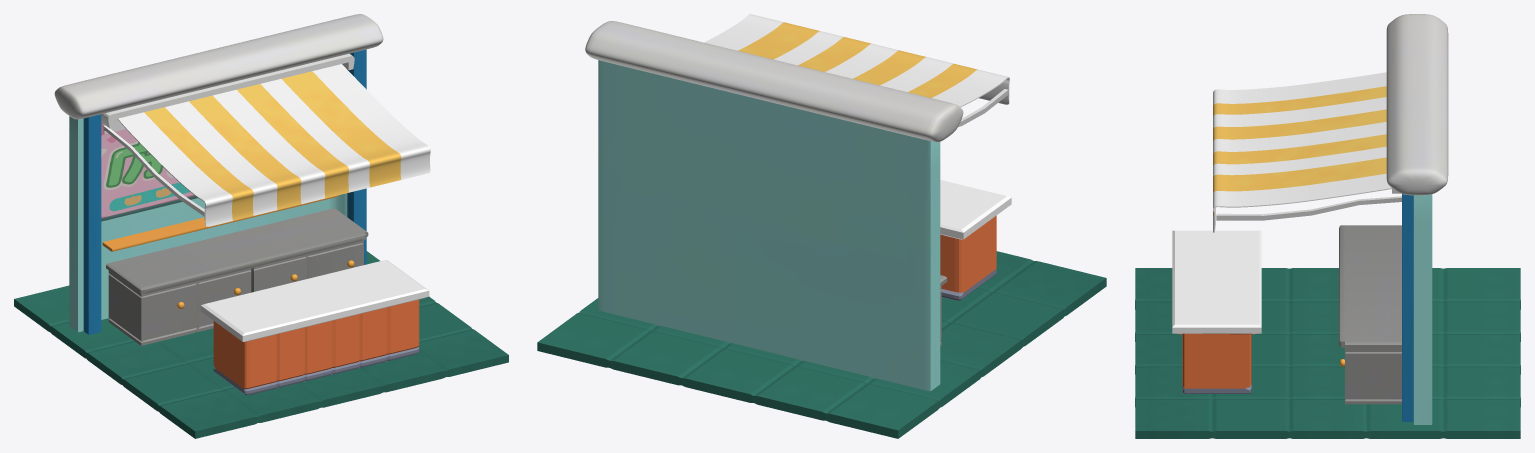
The picture shows the model from 3 angles, left to right: view 1: azimuth 30°, elevation 25°; view 2: azimuth 150°, elevation 25°; view 3: azimuth 270°, elevation 25°; orthographic projection. The views are drawn at different scales.
Parts seen in each view (by area): view 1: 平面.001, 平面, 立方体, 立方体.001, 立方体.002, 柱体, 立方体.003; view 2: 立方体.001, 平面, 柱体, 平面.001, 立方体; view 3: 平面, 平面.001, 立方体, 柱体, 立方体.002, 立方体.001, 立方体.003.
Boxes of the visible parts, x1=… form: 平面.001: x1=118, y1=64, x2=430, y2=226; 平面: x1=14, y1=251, x2=508, y2=438; 立方体: x1=200, y1=260, x2=429, y2=394; 立方体.001: x1=69, y1=49, x2=366, y2=334; 立方体.002: x1=106, y1=208, x2=368, y2=345; 柱体: x1=54, y1=14, x2=383, y2=119; 立方体.003: x1=101, y1=53, x2=354, y2=216; 立方体.001: x1=598, y1=60, x2=940, y2=391; 平面: x1=537, y1=251, x2=1106, y2=438; 柱体: x1=585, y1=21, x2=963, y2=142; 平面.001: x1=704, y1=14, x2=1009, y2=107; 立方体: x1=940, y1=180, x2=1011, y2=300; 平面: x1=1135, y1=268, x2=1520, y2=438; 平面.001: x1=1213, y1=72, x2=1391, y2=232; 立方体: x1=1172, y1=230, x2=1261, y2=393; 柱体: x1=1386, y1=14, x2=1448, y2=195; 立方体.002: x1=1339, y1=225, x2=1401, y2=404; 立方体.001: x1=1402, y1=194, x2=1432, y2=424; 立方体.003: x1=1216, y1=188, x2=1401, y2=220.
Bounding box in the file's own units: 1114 × 847 × 1114.
4 materials, 4 textured.
